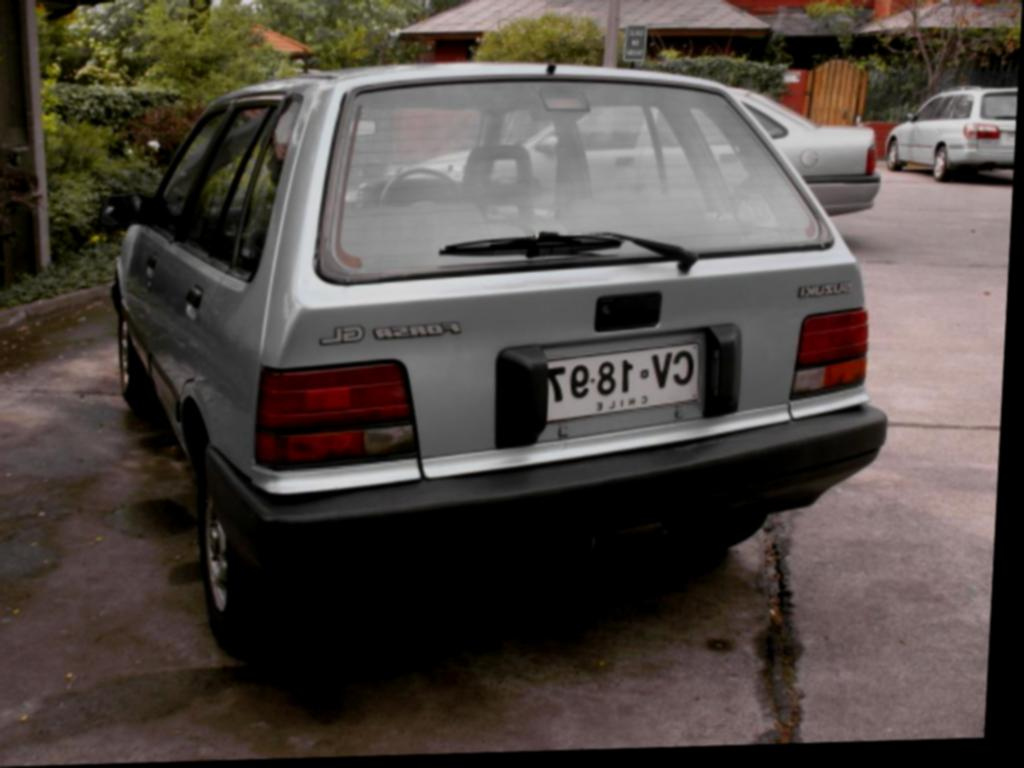License_Plate: (543, 344, 701, 427)
